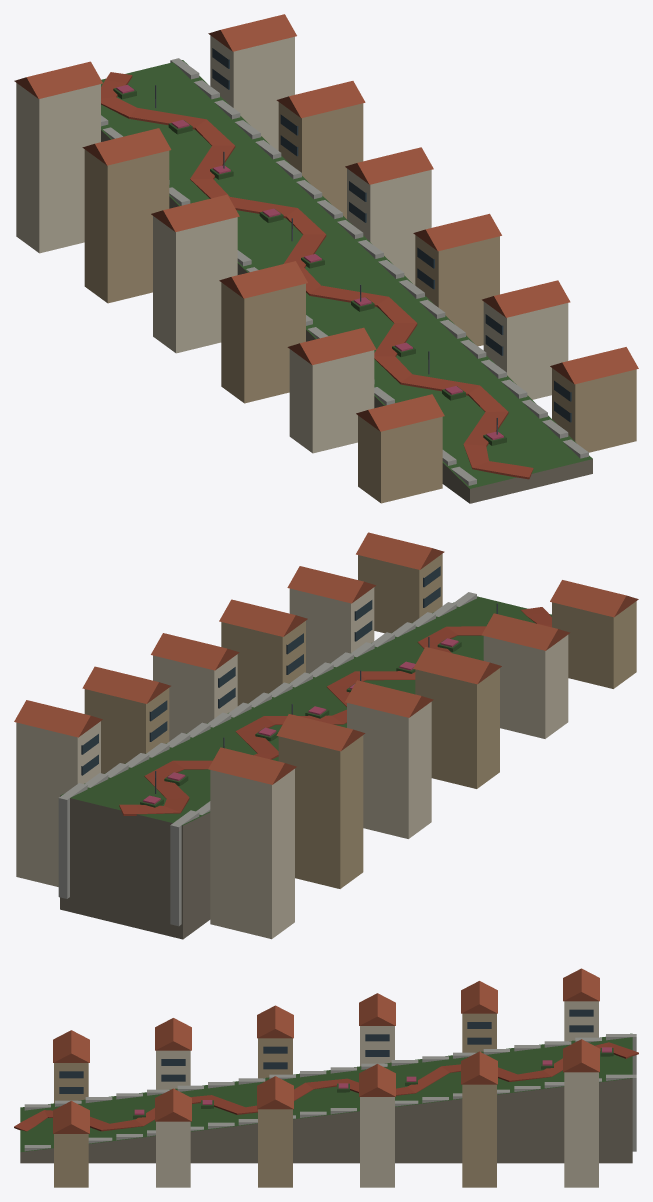
File: desktop.glb
3 views of the same model, one above another, from view 1: azimuth 30°, elevation 25°; view 2: azimuth 150°, elevation 25°; view 3: azimuth 270°, elevation 25° (orthographic). The views are drawn at different scales.
Parts seen in each view (by area): view 1: lm.lombard-crooked; view 2: lm.lombard-crooked; view 3: lm.lombard-crooked.
Part boxes in pixels (<box>): lm.lombard-crooked: <box>14,14,638,503</box>; lm.lombard-crooked: <box>14,532,638,939</box>; lm.lombard-crooked: <box>14,968,638,1187</box>.
Size of the model in its own units: 54.6 by 33.93 by 153.
